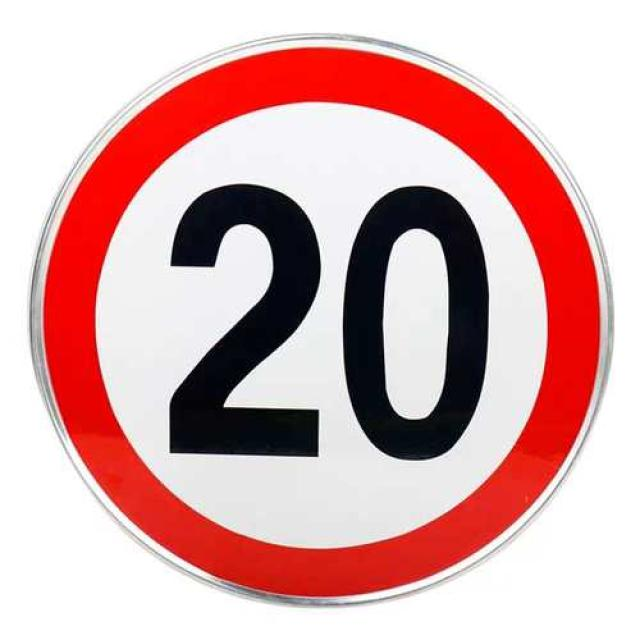speed limit 20: (28, 33, 614, 606)
